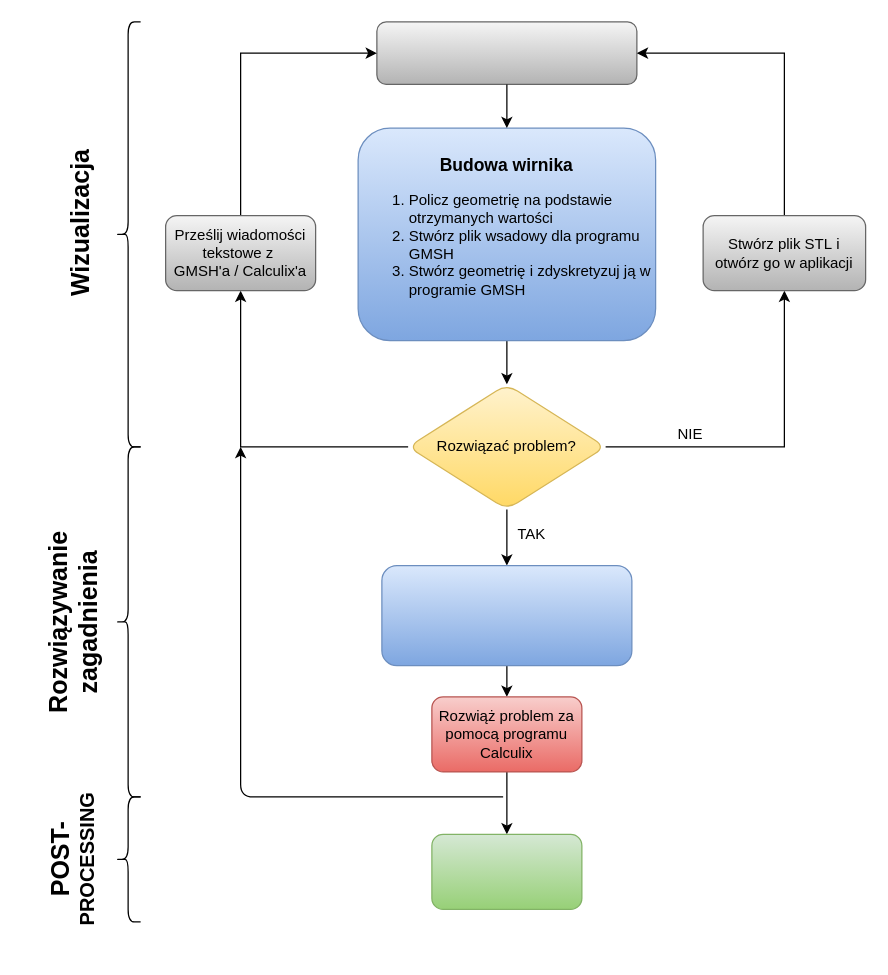
Image size: 888x975. Some labels were removed from this diagram. The box of each missing label's shape, as (x1, y1, x2, y2) in pixels:
Konwertuj plik wyjściowy z GMSH'a na plik wejściowy do Calculixa: (381, 564, 632, 666)
Okno PyQt - pobierz parametry od uzytkownika: (376, 21, 637, 84)
Przedstaw wyniki: (431, 833, 582, 909)
